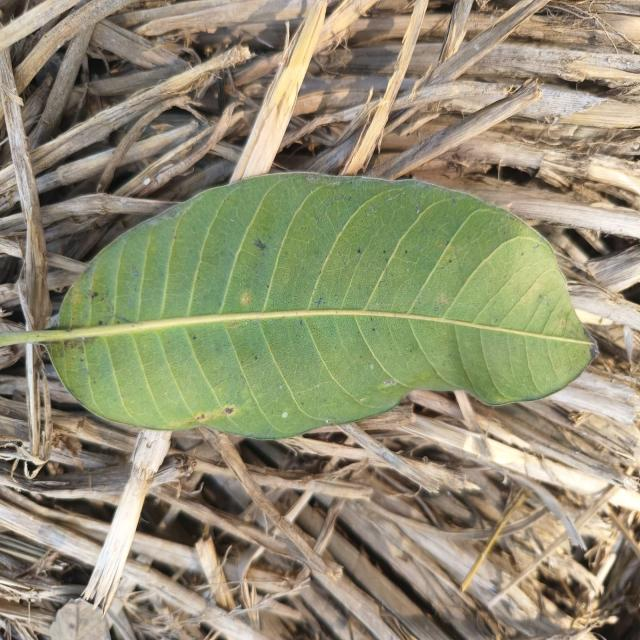Anthracnose: (223, 402, 239, 416), (199, 409, 211, 420), (93, 287, 99, 300)
